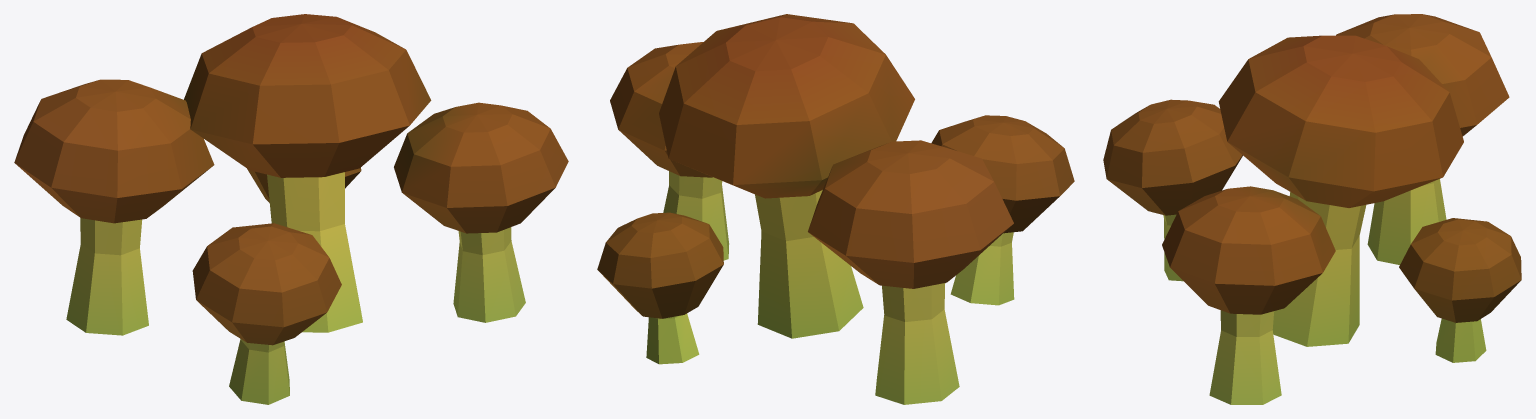
File: Mushroom_Cluster_01.fbx
The picture shows the model from 3 angles, left to right: view 1: azimuth 30°, elevation 25°; view 2: azimuth 150°, elevation 25°; view 3: azimuth 270°, elevation 25°; orthographic projection. The views are drawn at different scales.
Visible parts, largest first — view 1: Mushroom_Cluster_01; view 2: Mushroom_Cluster_01; view 3: Mushroom_Cluster_01.
Boxes of the visible parts, box(x1,y1,x2,y2) form: Mushroom_Cluster_01: box(14, 14, 568, 404); Mushroom_Cluster_01: box(597, 14, 1074, 404); Mushroom_Cluster_01: box(1103, 14, 1521, 404).
Bounding box in the file's own units: 0.402 × 0.247 × 0.3311.
